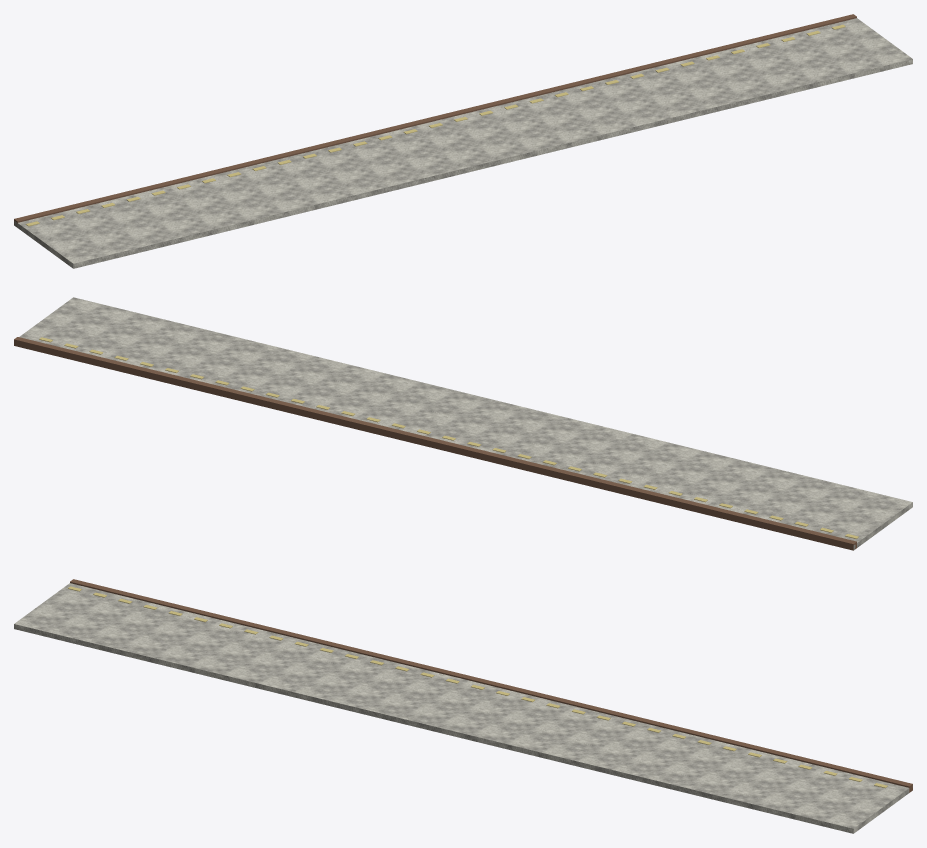
Rendered from station-platform.obj.
3 renders of one model, top to bottom at view 1: azimuth 30°, elevation 25°; view 2: azimuth 150°, elevation 25°; view 3: azimuth 330°, elevation 25°, orthographic.
Size of the model in its own units: 19 by 0.14 by 2.33.
Materials: 3 (1 with a texture image).
